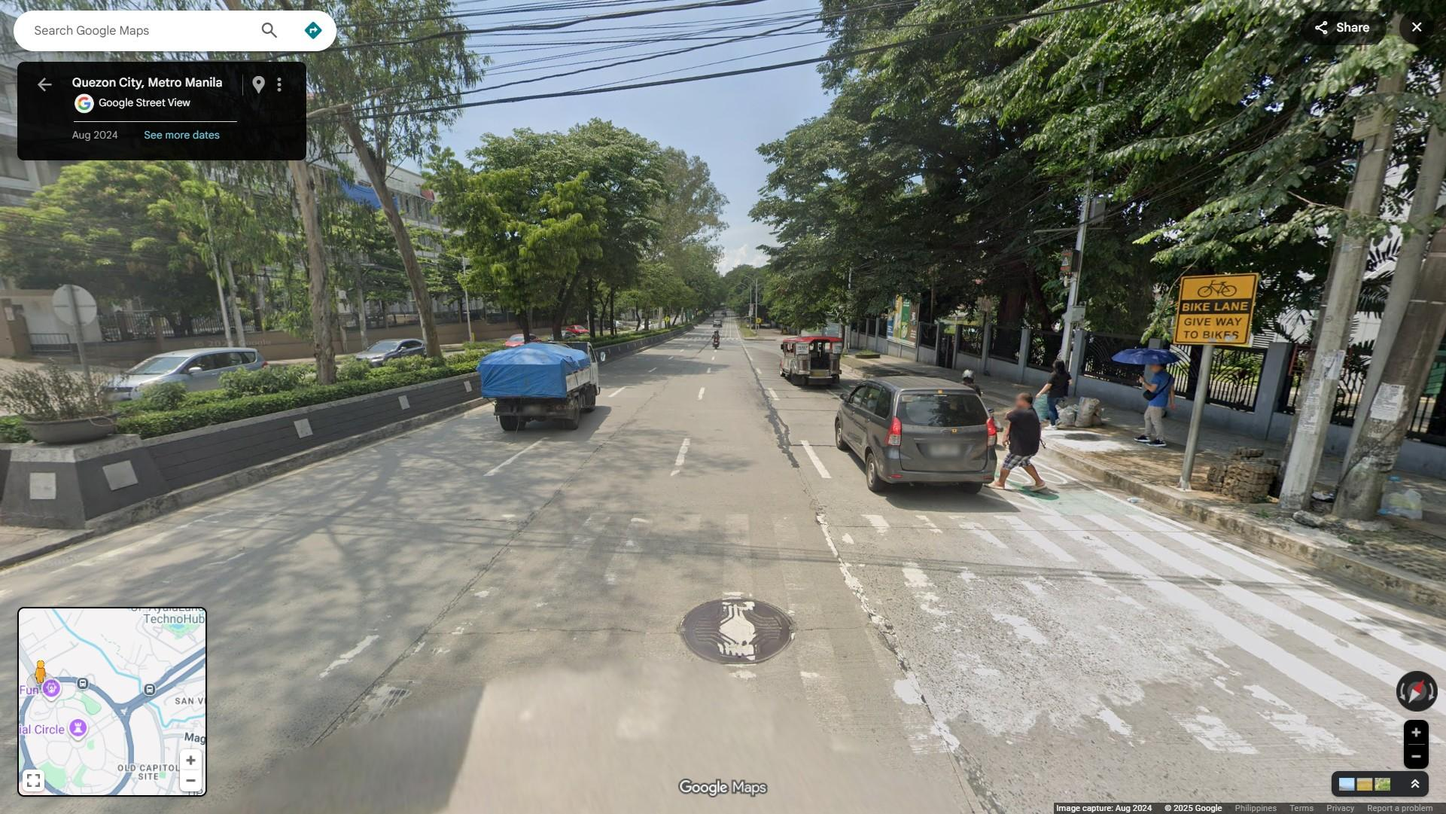pedestrian: (985, 391, 1048, 493), (1131, 356, 1177, 449), (1034, 358, 1074, 431)
